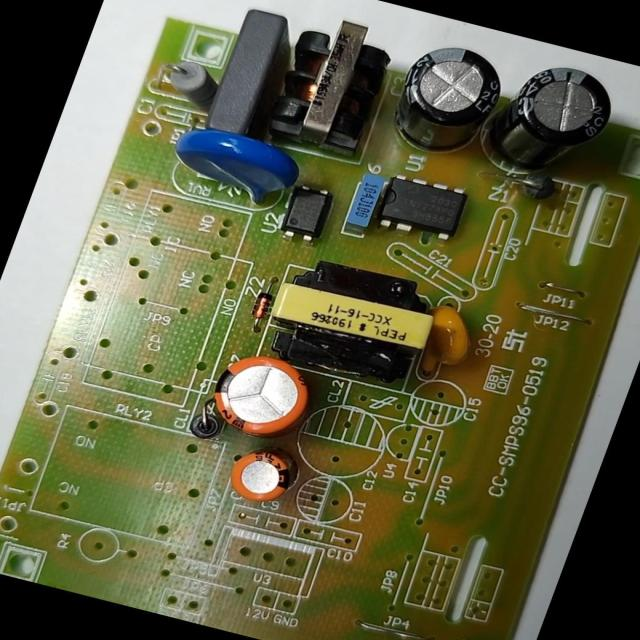Cap1: (202, 346, 318, 444)
Cap2: (223, 444, 299, 507)
Cap3: (379, 36, 513, 163)
Cap4: (477, 54, 623, 185)
MOSFET: (372, 170, 472, 246)
Mov: (160, 118, 310, 214)
Resistor: (157, 57, 226, 113)
Transformer: (252, 248, 448, 392), (260, 6, 409, 162)
